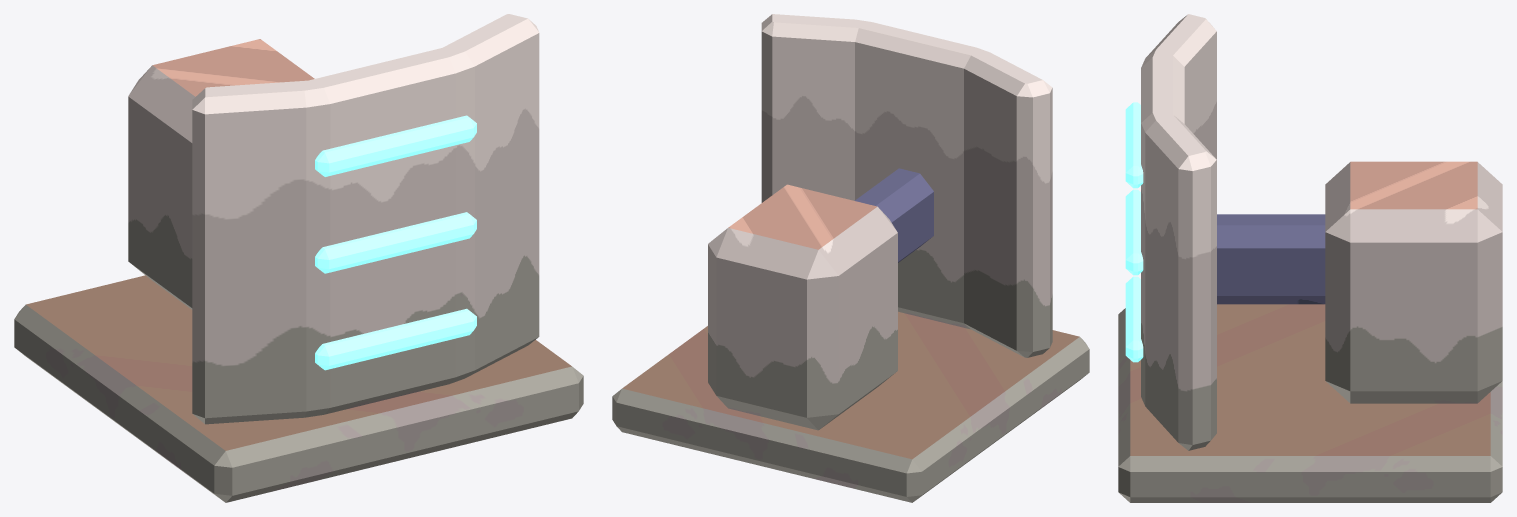
File: R4X_DirectionalShield_LOD1.glb
The picture shows the model from 3 angles, left to right: view 1: azimuth 30°, elevation 25°; view 2: azimuth 150°, elevation 25°; view 3: azimuth 270°, elevation 25°; orthographic projection. The views are drawn at different scales.
Parts seen in each view (by area): view 1: R4X_DirectionalShield_LOD1; view 2: R4X_DirectionalShield_LOD1; view 3: R4X_DirectionalShield_LOD1.
Part boxes in pixels (<box>): R4X_DirectionalShield_LOD1: <box>14,14,583,502</box>; R4X_DirectionalShield_LOD1: <box>612,14,1089,502</box>; R4X_DirectionalShield_LOD1: <box>1118,14,1502,502</box>.
Size of the model in its own units: 0.52 by 0.51 by 0.52.
4 materials, 3 textured.
